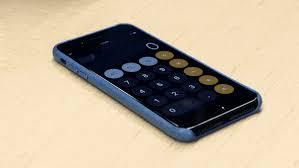Calculator: (103, 40, 240, 125)
